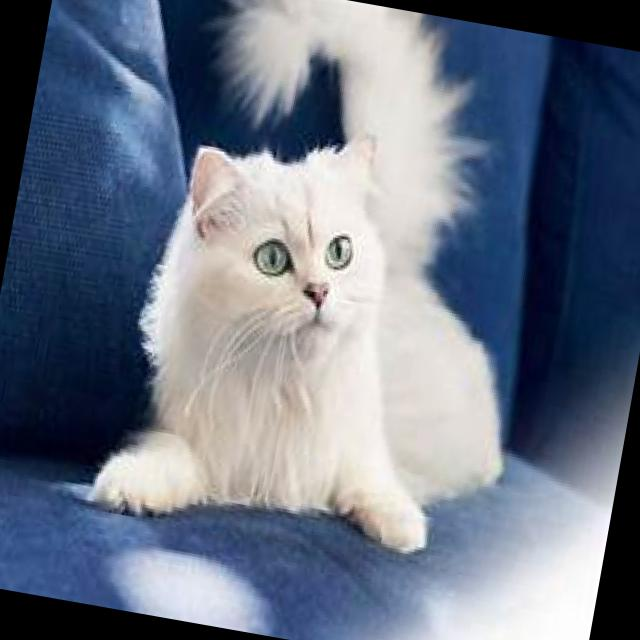animal: (51, 0, 586, 577)
